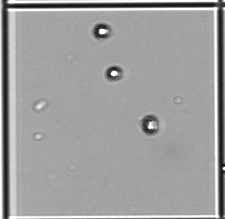Living Cell: (139, 114, 160, 135), (93, 22, 111, 38), (105, 65, 123, 81)
